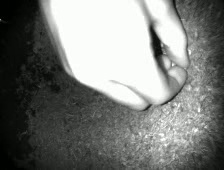corn: (169, 60, 178, 69)
